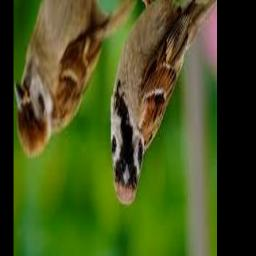Sparrow: (111, 0, 217, 206), (15, 0, 136, 157)
